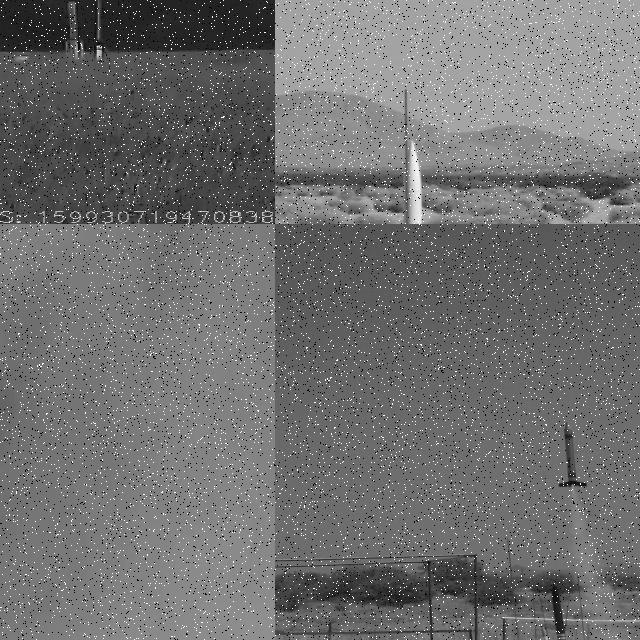Rocket: (378, 138, 445, 224), (558, 422, 588, 488), (551, 584, 583, 640), (541, 626, 563, 640)
